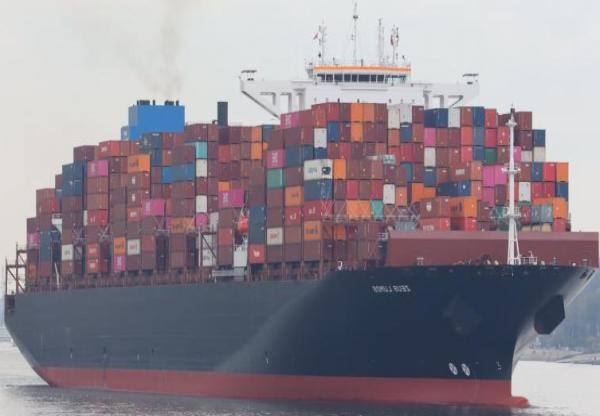Container Ship: (3, 0, 599, 408)
